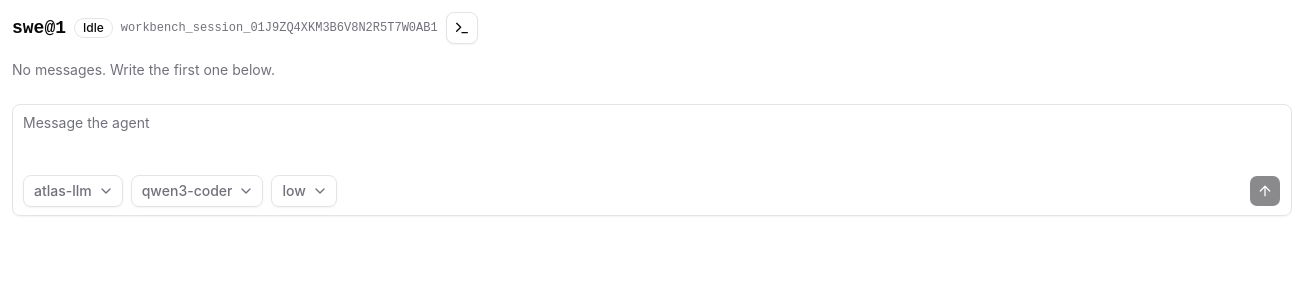
Test: Composer › changes nothing when the list of the new agent provider fails
Click the dropdown named "Agent Provider". click: (73, 191)
box: top-left (23, 175), bottom-right (123, 207)
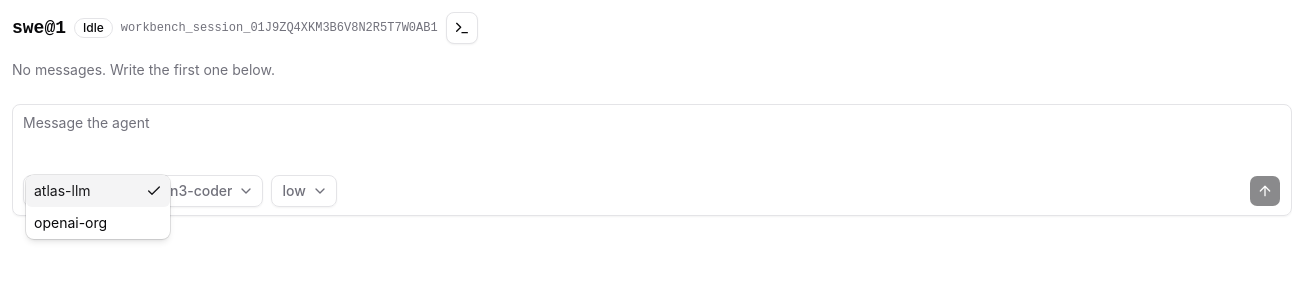
Click the option "openai-org". click: (71, 222)
box: top-left (34, 214), bottom-right (107, 231)
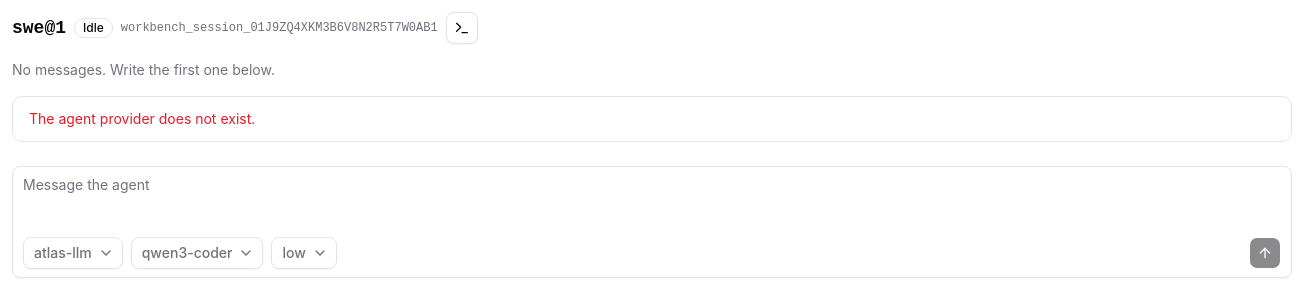
Expected: the dropdown named "Agent Provider" shows "atlas-llm", top-left (23, 237), bottom-right (123, 269)
Expected: the text "The agent provider does not exist." is shown, top-left (29, 110), bottom-right (255, 127)
